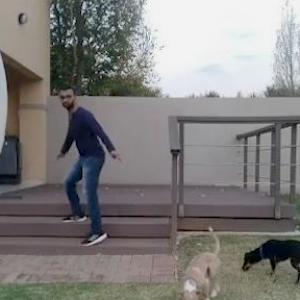land: (52, 85, 124, 246)
